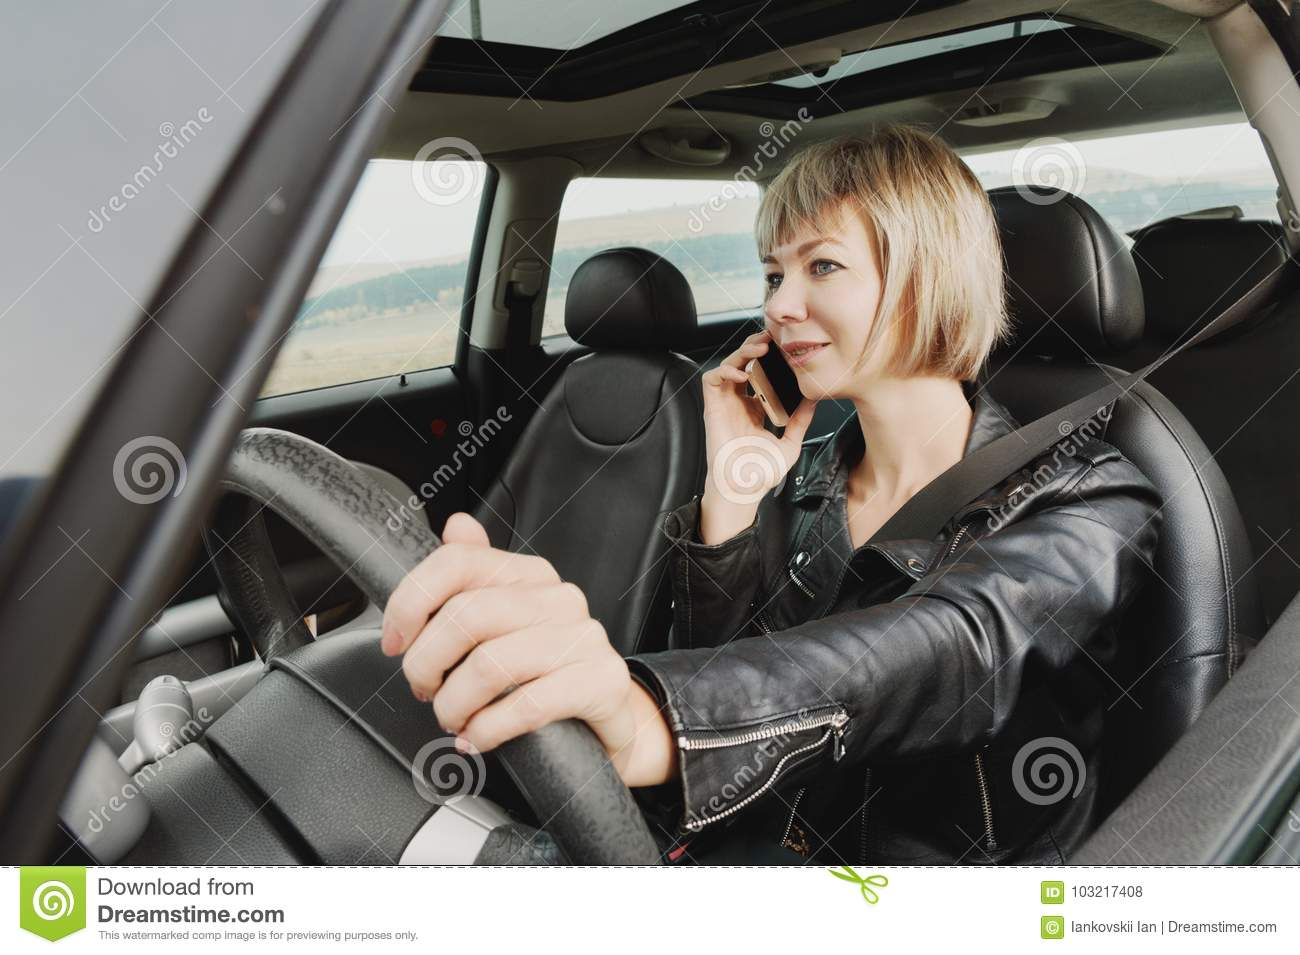phone: (742, 340, 801, 435)
talk: (707, 234, 856, 502)
